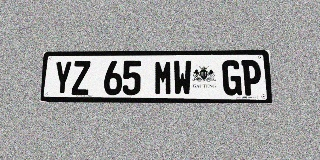5: (123, 61, 141, 95)
6: (104, 61, 123, 95)
G: (222, 60, 242, 95)
M: (154, 60, 173, 95)
P: (241, 60, 262, 95)
W: (173, 60, 192, 95)
Y: (53, 61, 72, 95)
Z: (71, 61, 91, 95)
